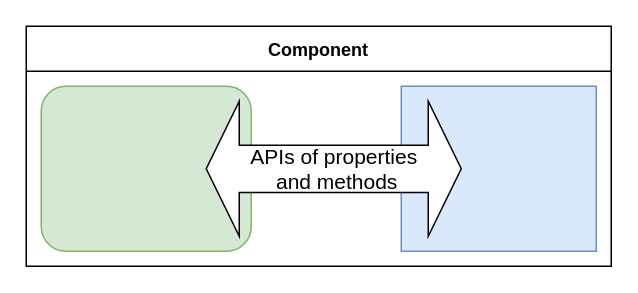
Some shapes in this 638 by 293 pixel diagram are drawn without their labels. The shapes that lost their labels are listed below. From the top down, each one's box as (x1, y1, x2, y2) in pixels, then its label:
(40, 85, 251, 251): class
(400, 85, 596, 251): view
